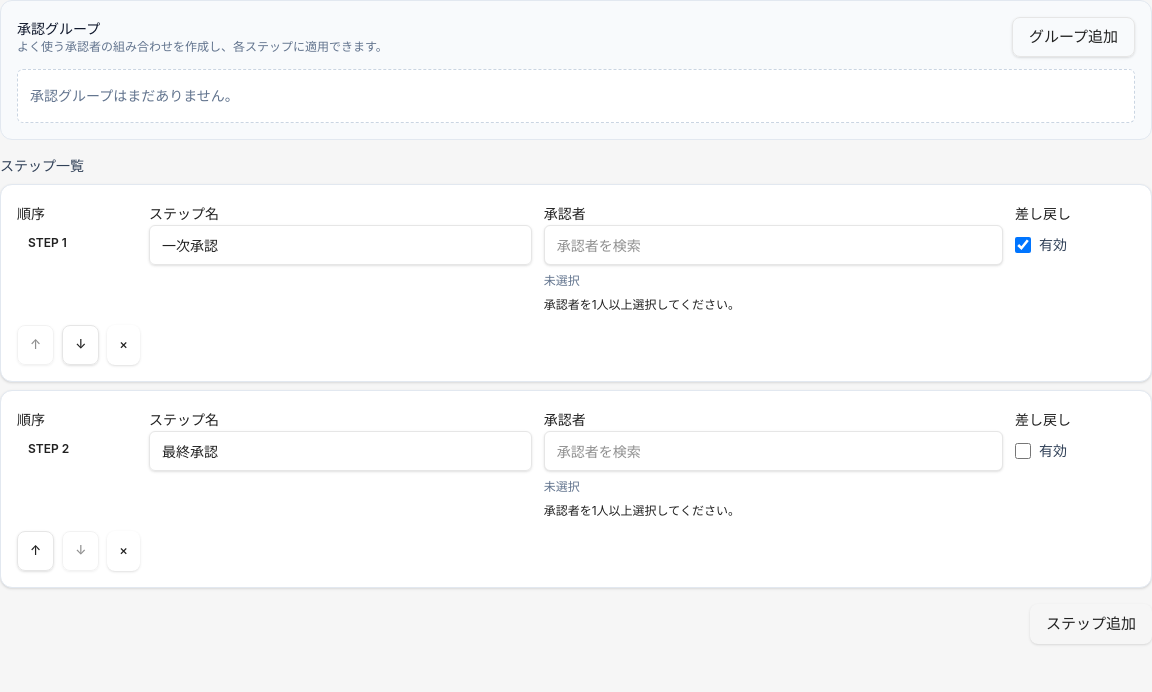
Test: ApprovalStepsBuilder › creates an approval group and validates missing members
The width and height of the screenshot is (1152, 692).
What coordinates should you click on to do the following:
click the button "グループ追加"
I would click on:
 (1073, 37)
Its box is [1012, 17, 1135, 57].
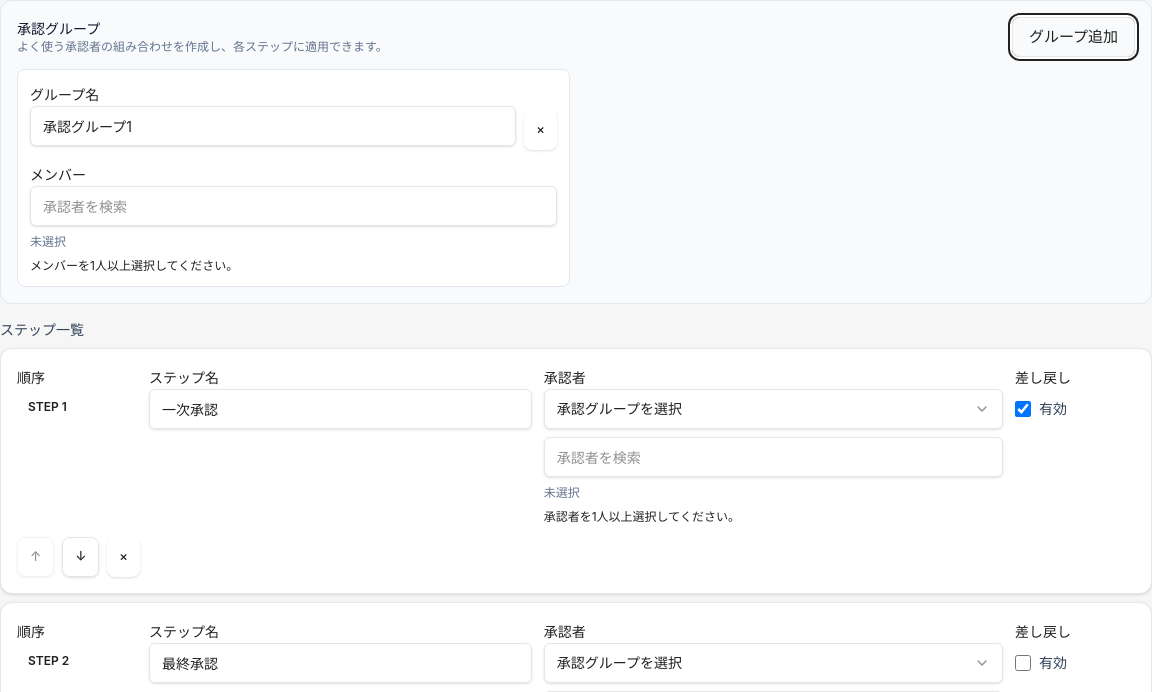
Now the field showing "承認グループ1" is shown, box [30, 106, 516, 146]
Now the text "メンバーを1人以上選択してください。" is shown, box [30, 258, 238, 273]
